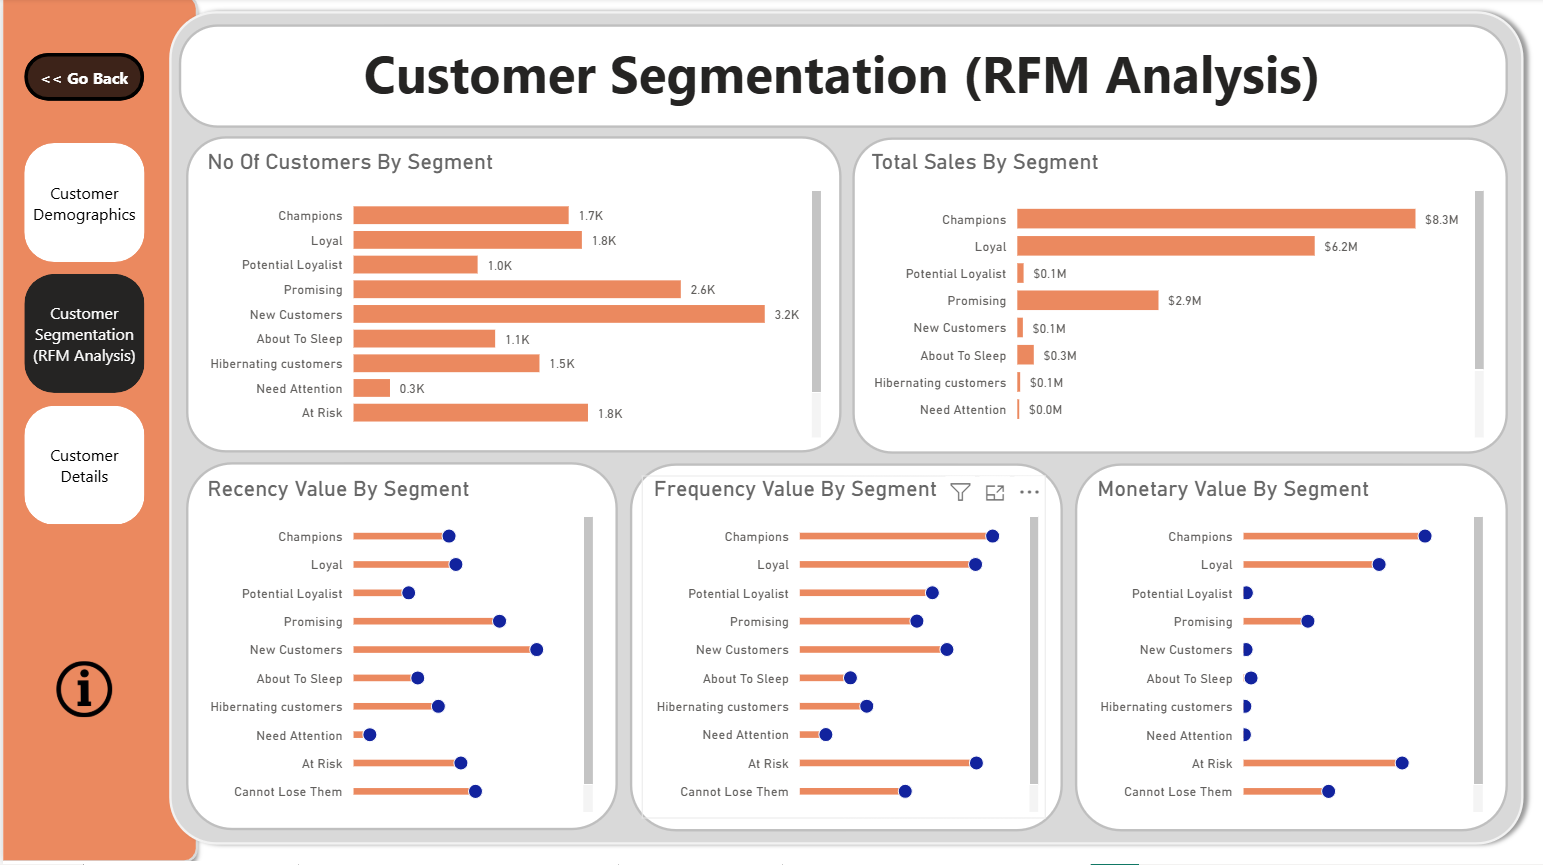

Layout of this report page (visuals, bound fields, positions):
{"tool":"powerbi","page":{"name":"Customer Segmentation (RFM Analysis)","canvas":[1280,720],"ordinal":1},"visuals":[{"type":"barChart","title":"Total Sales By Segment","fields":{"Category":["SegmentTable.Segment"],"Y":["Sum(FactInternetSales.SalesAmount)"]},"box":[711.6,120.9,524.4,250],"z":0},{"type":"barChart","title":"No Of Customers By Segment","fields":{"Category":["SegmentTable.Segment"],"Y":["Count(RFM Table.CustomerKey)"]},"box":[160.5,120.9,525,250],"z":1000},{"type":"barChart","title":"Recency Value By Segment","fields":{"Category":["SegmentTable.Segment"],"Y":["Sum(RFM Table.Recency Value)"]},"box":[160.5,396.5,335,285],"z":2000},{"type":"barChart","title":"Frequency Value By Segment","fields":{"Category":["SegmentTable.Segment"],"Y":["Sum(RFM Table.Frequency Value)"]},"box":[531.4,396.5,334.9,284.9],"z":3000},{"type":"barChart","title":"Monetary Value By Segment","fields":{"Category":["SegmentTable.Segment"],"Y":["Sum(RFM Table.Monetary Value)"]},"box":[900,396.5,335,285],"z":4000},{"type":"textbox","box":[160.5,27.9,1075.6,72.1],"z":5000},{"type":"pageNavigator","box":[17.4,120.9,100,319.8],"z":6000},{"type":"image","box":[36,546.5,61.6,55.8],"z":7000},{"type":"actionButton","box":[18,45.6,99.7,39.6],"z":8000}]}

Visuals, with their boxes in screenshot pixels (x1, y1, x2, y2), scaled from the page's 1280x720 canvas onto the 1543x865 screenshot:
"Total Sales By Segment" barChart: <box>858,145,1490,446</box>
"No Of Customers By Segment" barChart: <box>193,145,826,446</box>
"Recency Value By Segment" barChart: <box>193,476,597,819</box>
"Frequency Value By Segment" barChart: <box>641,476,1044,819</box>
"Monetary Value By Segment" barChart: <box>1085,476,1489,819</box>
textbox: <box>193,34,1490,120</box>
pageNavigator: <box>21,145,142,529</box>
image: <box>43,657,118,724</box>
actionButton: <box>22,55,142,102</box>
